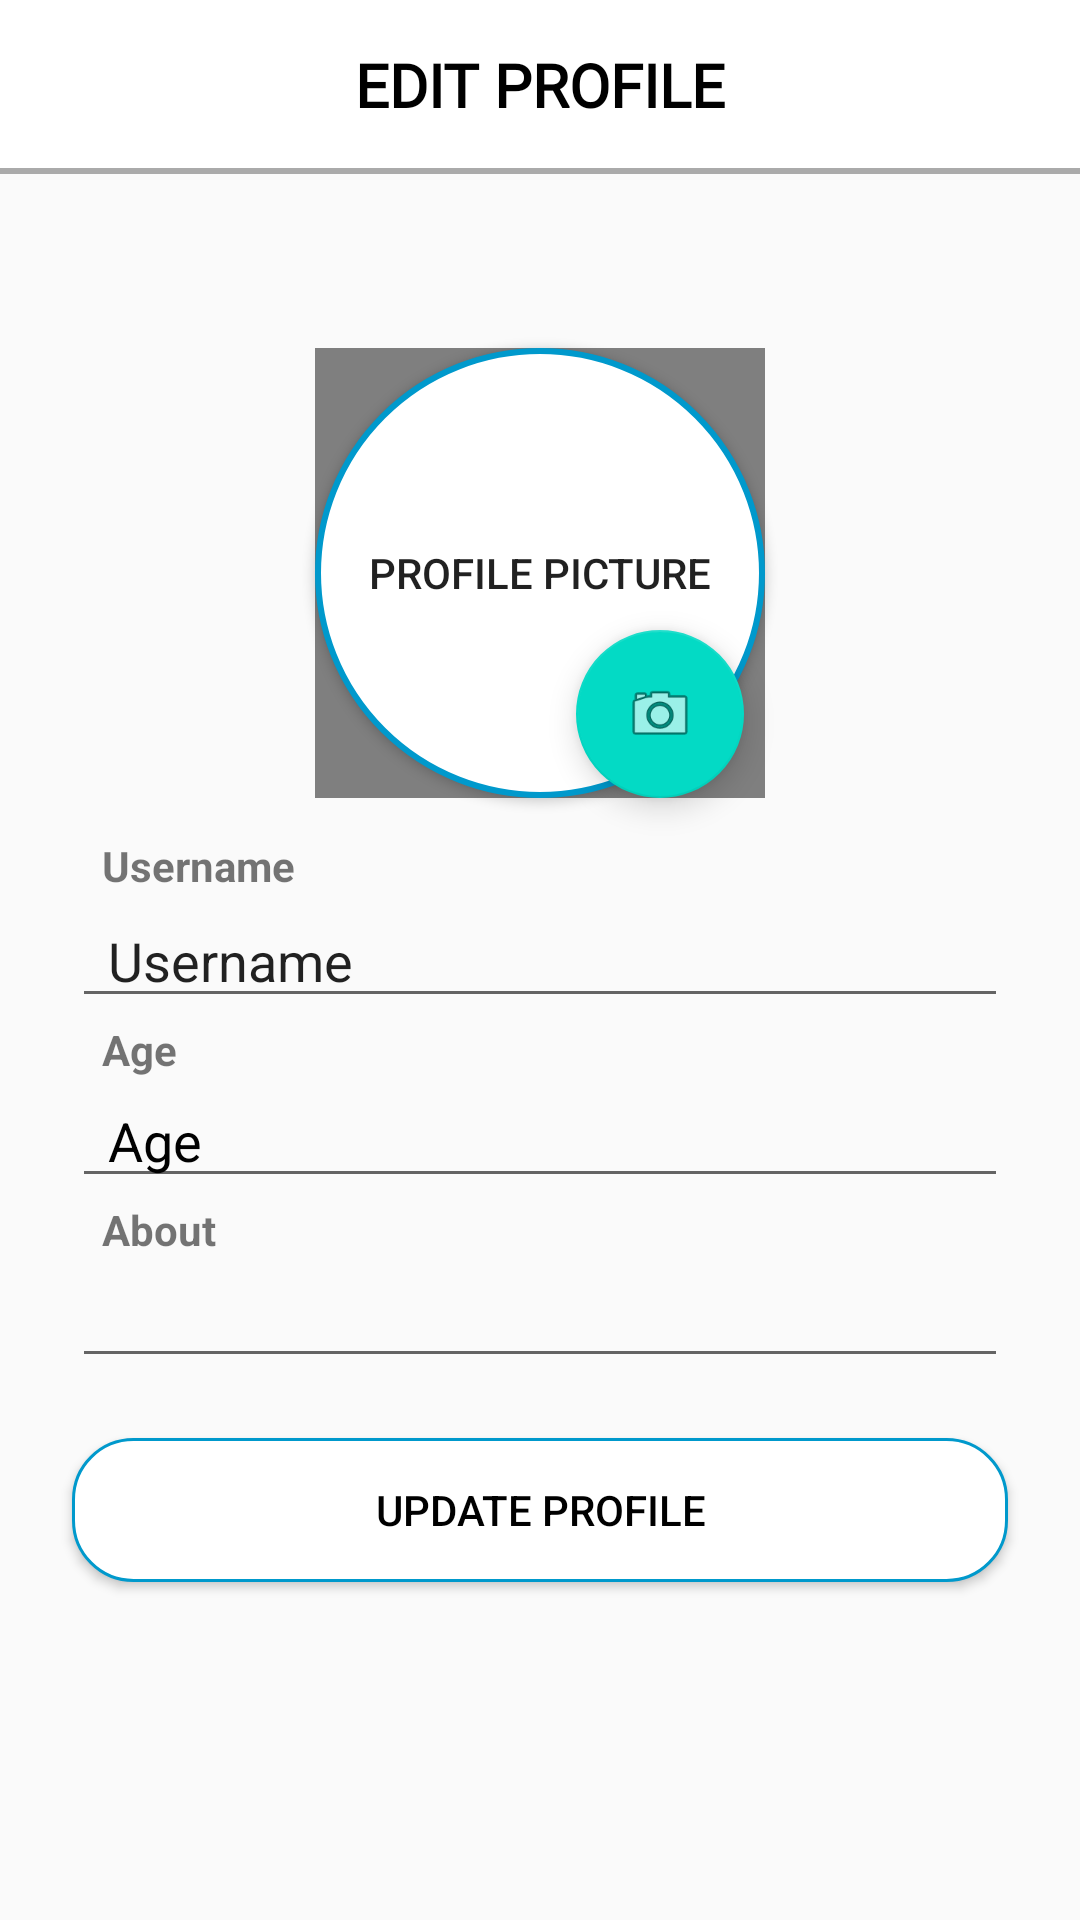

Where icons sit on this 1080×1920 app screen, as (x1, y1, x2, y2):
camera: (576, 630, 744, 798)
